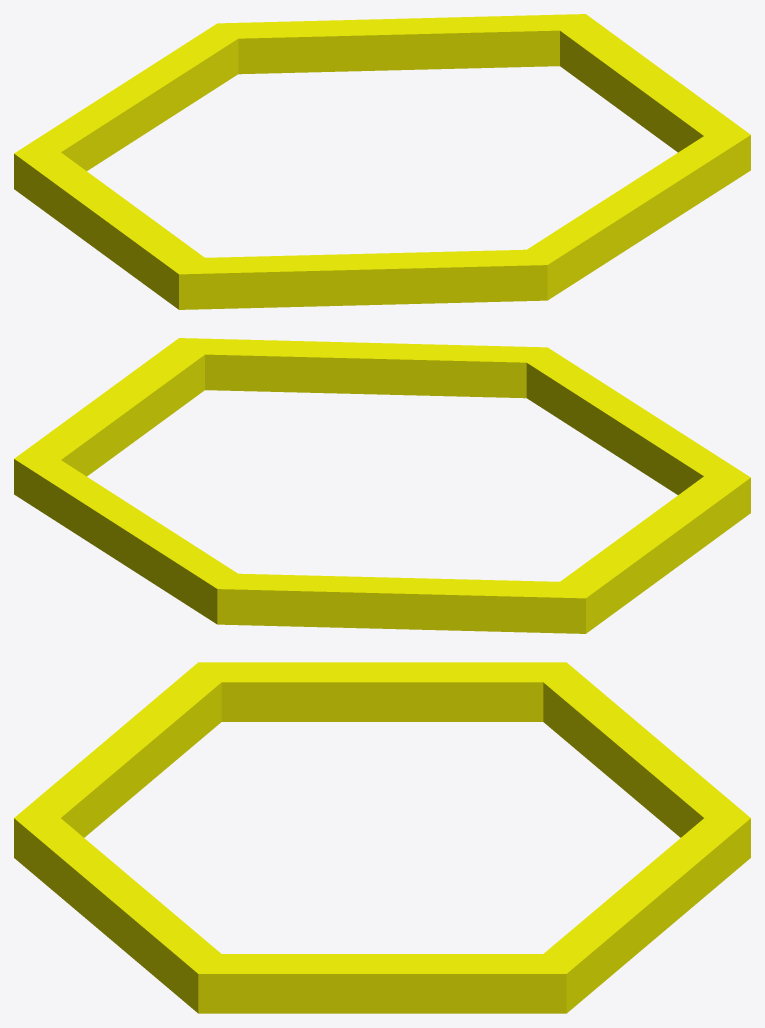
File: honeycomb.gltf
3 views of the same model, one above another, from view 1: azimuth 30°, elevation 25°; view 2: azimuth 150°, elevation 25°; view 3: azimuth 270°, elevation 25° (orthographic). The views are drawn at different scales.
Parts seen in each view (by area): view 1: honeycomb; view 2: honeycomb; view 3: honeycomb.
Boxes of the visible parts, x1,y1,x2,y2 form: honeycomb: (14,14,750,309); honeycomb: (14,338,750,633); honeycomb: (14,662,750,1013).
Bounding box in the file's own units: 2 × 0.1189 × 2.
